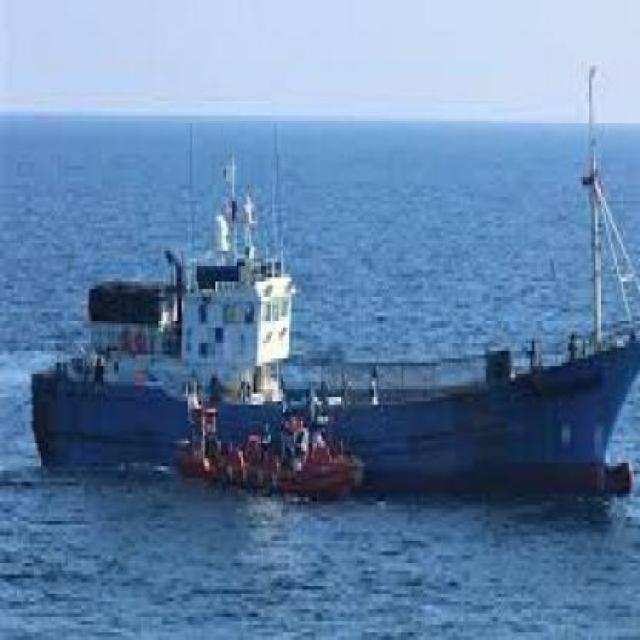fish-b: (24, 105, 640, 506)
